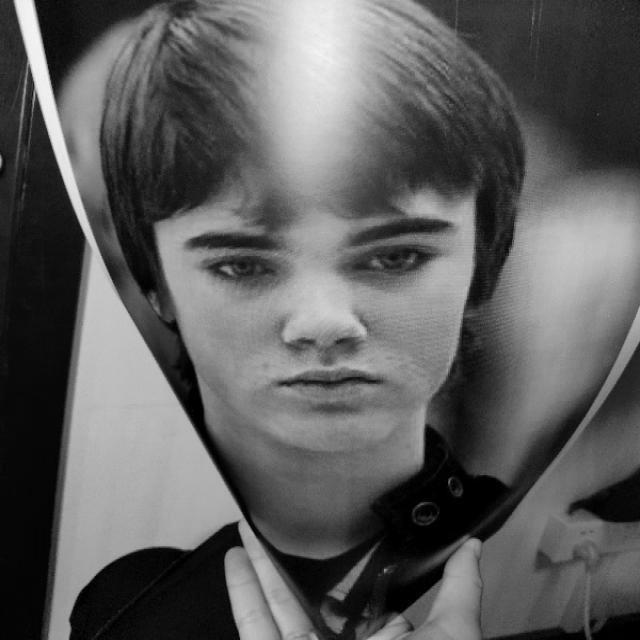fake: (14, 0, 639, 640)
